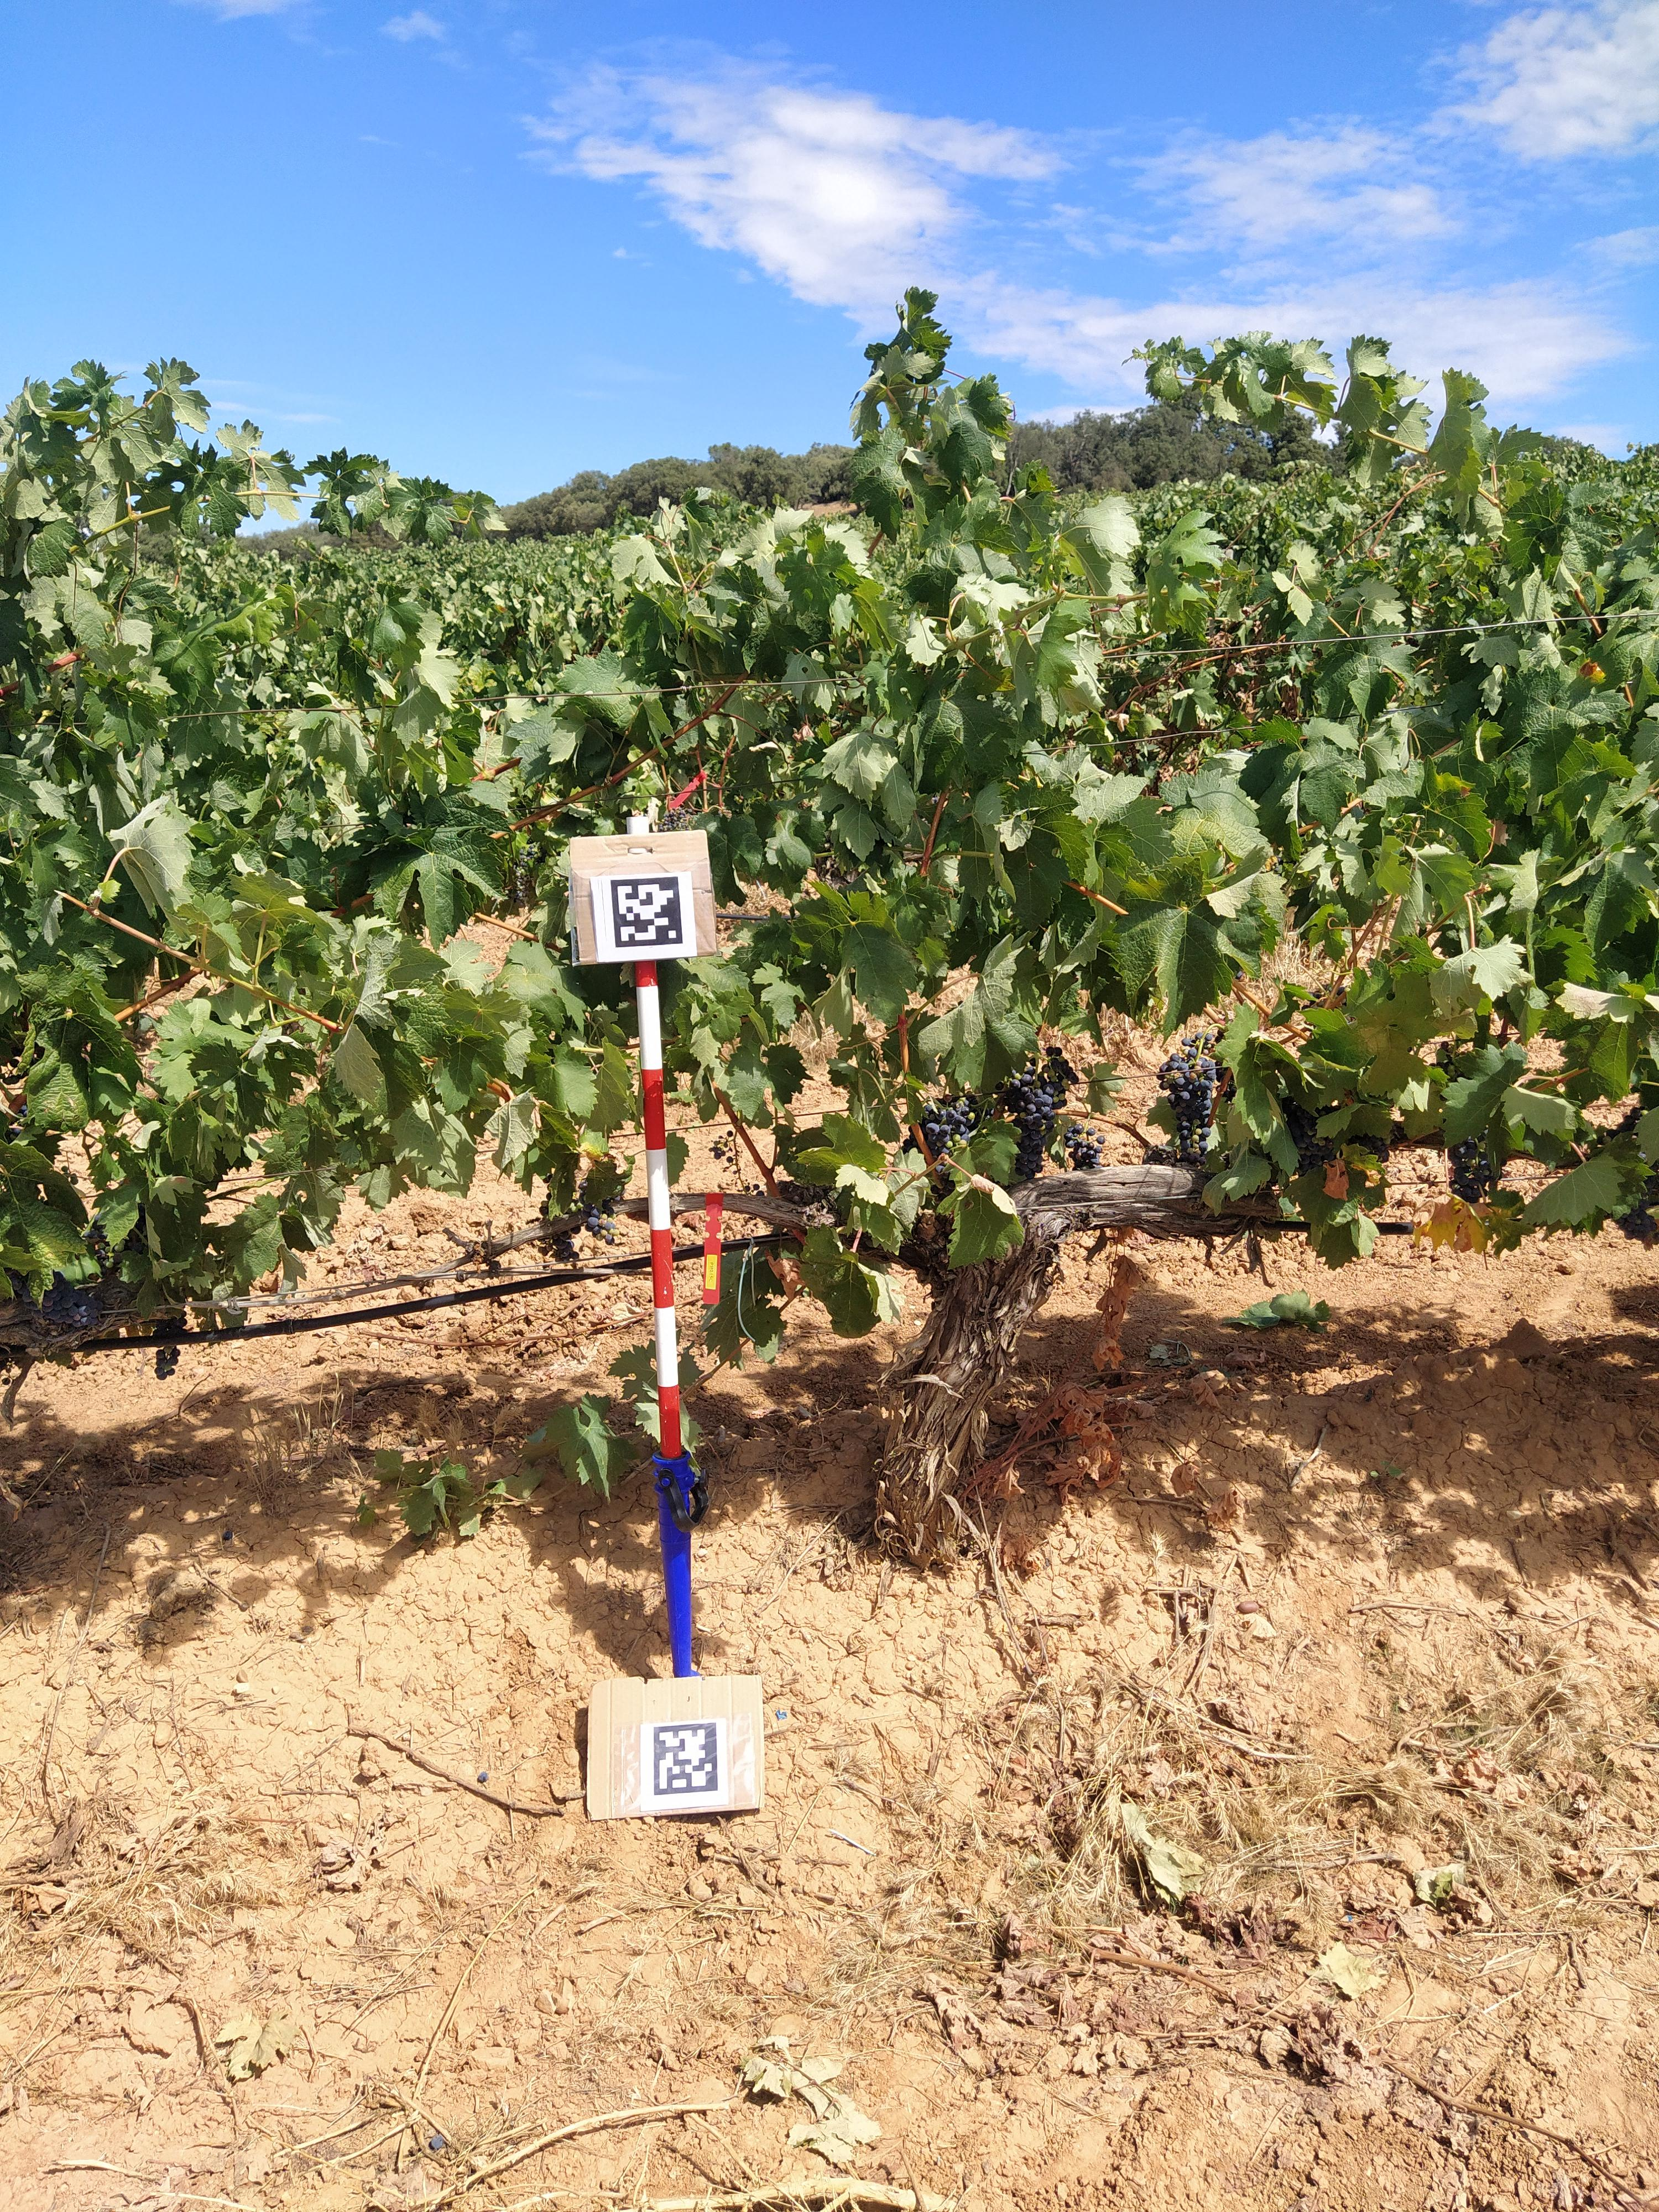0: (1154, 1029, 1218, 1170), (899, 1089, 978, 1200), (992, 1062, 1051, 1181), (5, 1266, 105, 1332), (1279, 1096, 1342, 1177), (1443, 1123, 1499, 1205), (80, 1209, 150, 1264), (1030, 1042, 1079, 1111), (1608, 1177, 1659, 1242), (579, 1176, 622, 1249), (153, 1306, 190, 1381), (1595, 1099, 1652, 1146), (1061, 1122, 1107, 1174), (1427, 1035, 1469, 1085), (535, 1223, 584, 1263), (1298, 981, 1352, 1012), (0, 1042, 33, 1087), (1347, 1130, 1389, 1163), (1213, 1057, 1237, 1103), (7, 1101, 33, 1139), (538, 1169, 554, 1219)
qr: (610, 880, 683, 944)
